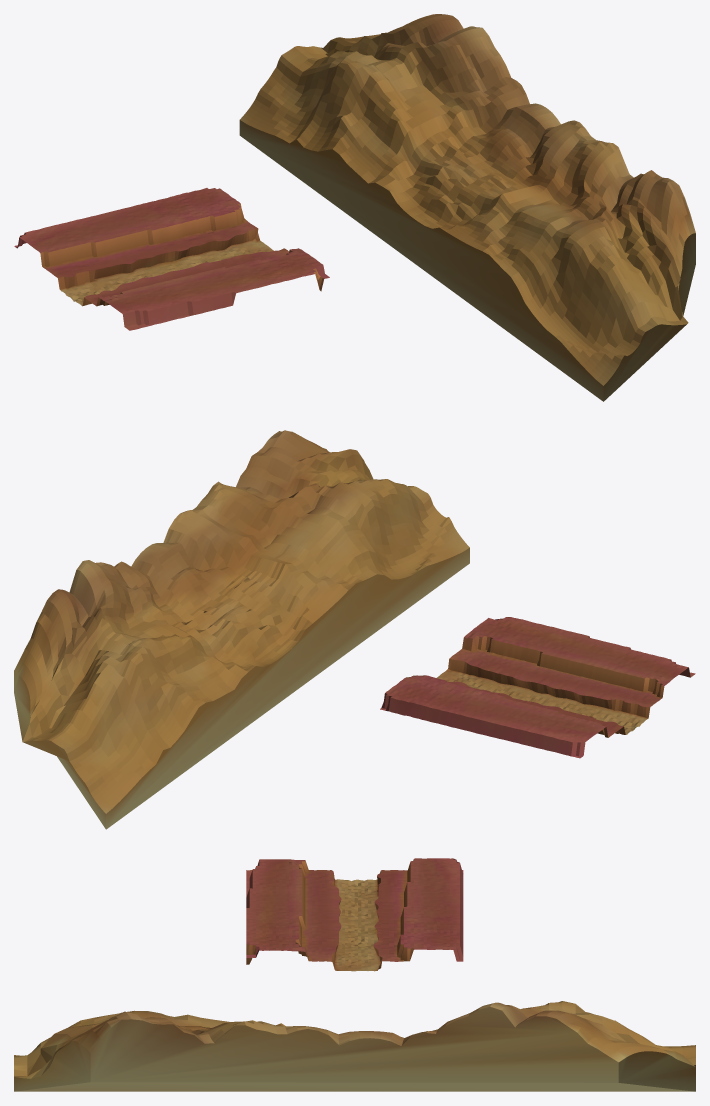
The model's file is Terrain.fbx_Collection.fbx.
The picture shows the model from 3 angles, top to bottom: view 1: azimuth 30°, elevation 25°; view 2: azimuth 150°, elevation 25°; view 3: azimuth 270°, elevation 25°; orthographic projection. The views are drawn at different scales.
Visible parts, largest first — view 1: Cube.001, Cube; view 2: Cube.001, Cube; view 3: Cube.001, Cube.
Boxes of the visible parts, box(x1,y1,x2,y2) form: Cube.001: box(239, 14, 695, 401); Cube: box(14, 188, 329, 330); Cube.001: box(14, 430, 469, 829); Cube: box(380, 617, 695, 758); Cube.001: box(14, 1001, 695, 1091); Cube: box(246, 858, 463, 971).
Size of the model in its own units: 48184 by 14844 by 62856.
